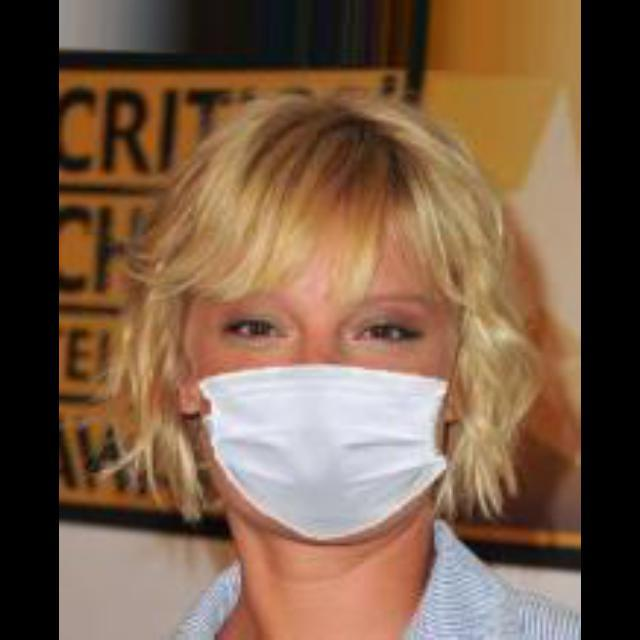suspicion: (166, 109, 506, 546)
